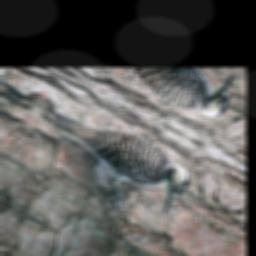Woodpecker: (19, 86, 200, 240)
